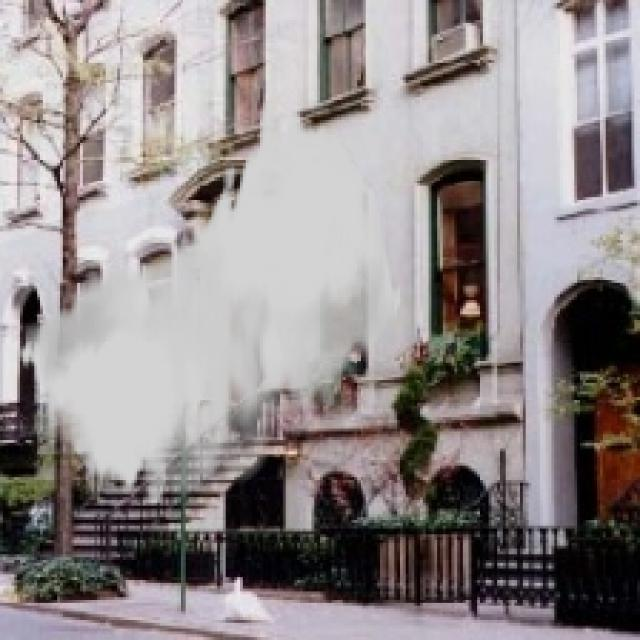smoke: (17, 100, 403, 506)
